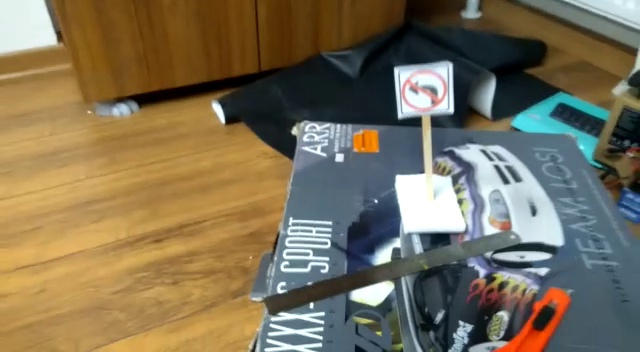sola_donulmez: (402, 69, 447, 109)
